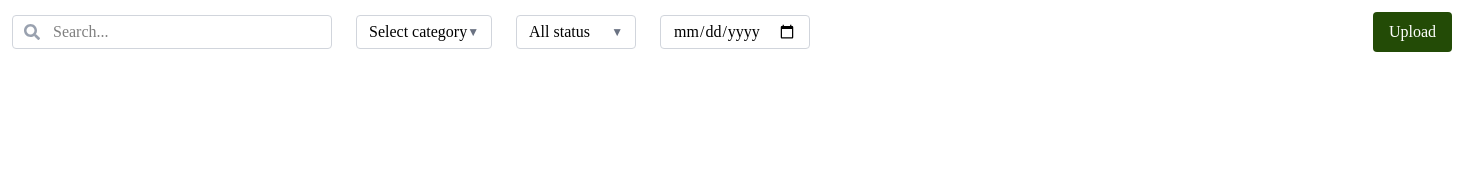
Test: InventoryFilters › closes CustomSelect when clicking outside
This screenshot has width=1464, height=172.
Click the text "Select category" at (418, 32), box [369,20,467,44]
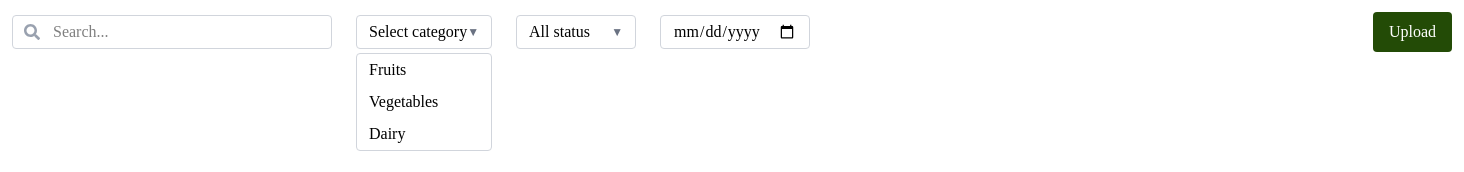
expect the list item "Fruits" is shown: met, box [369,61,406,78]
Press the mouse on the element that starts with "Select category" at (732, 32), box [12,12,1452,52]
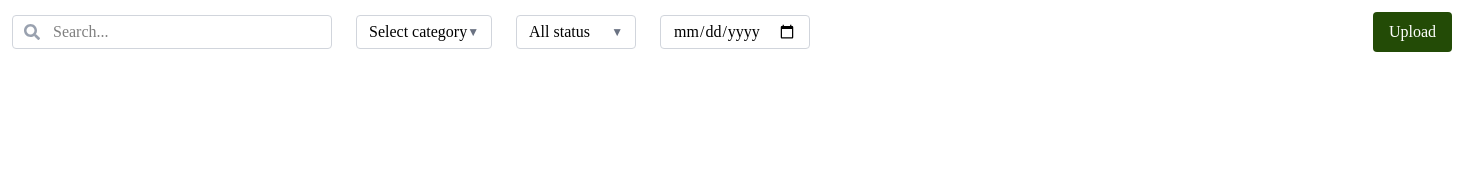
expect the list item "Fruits" is gone: met
